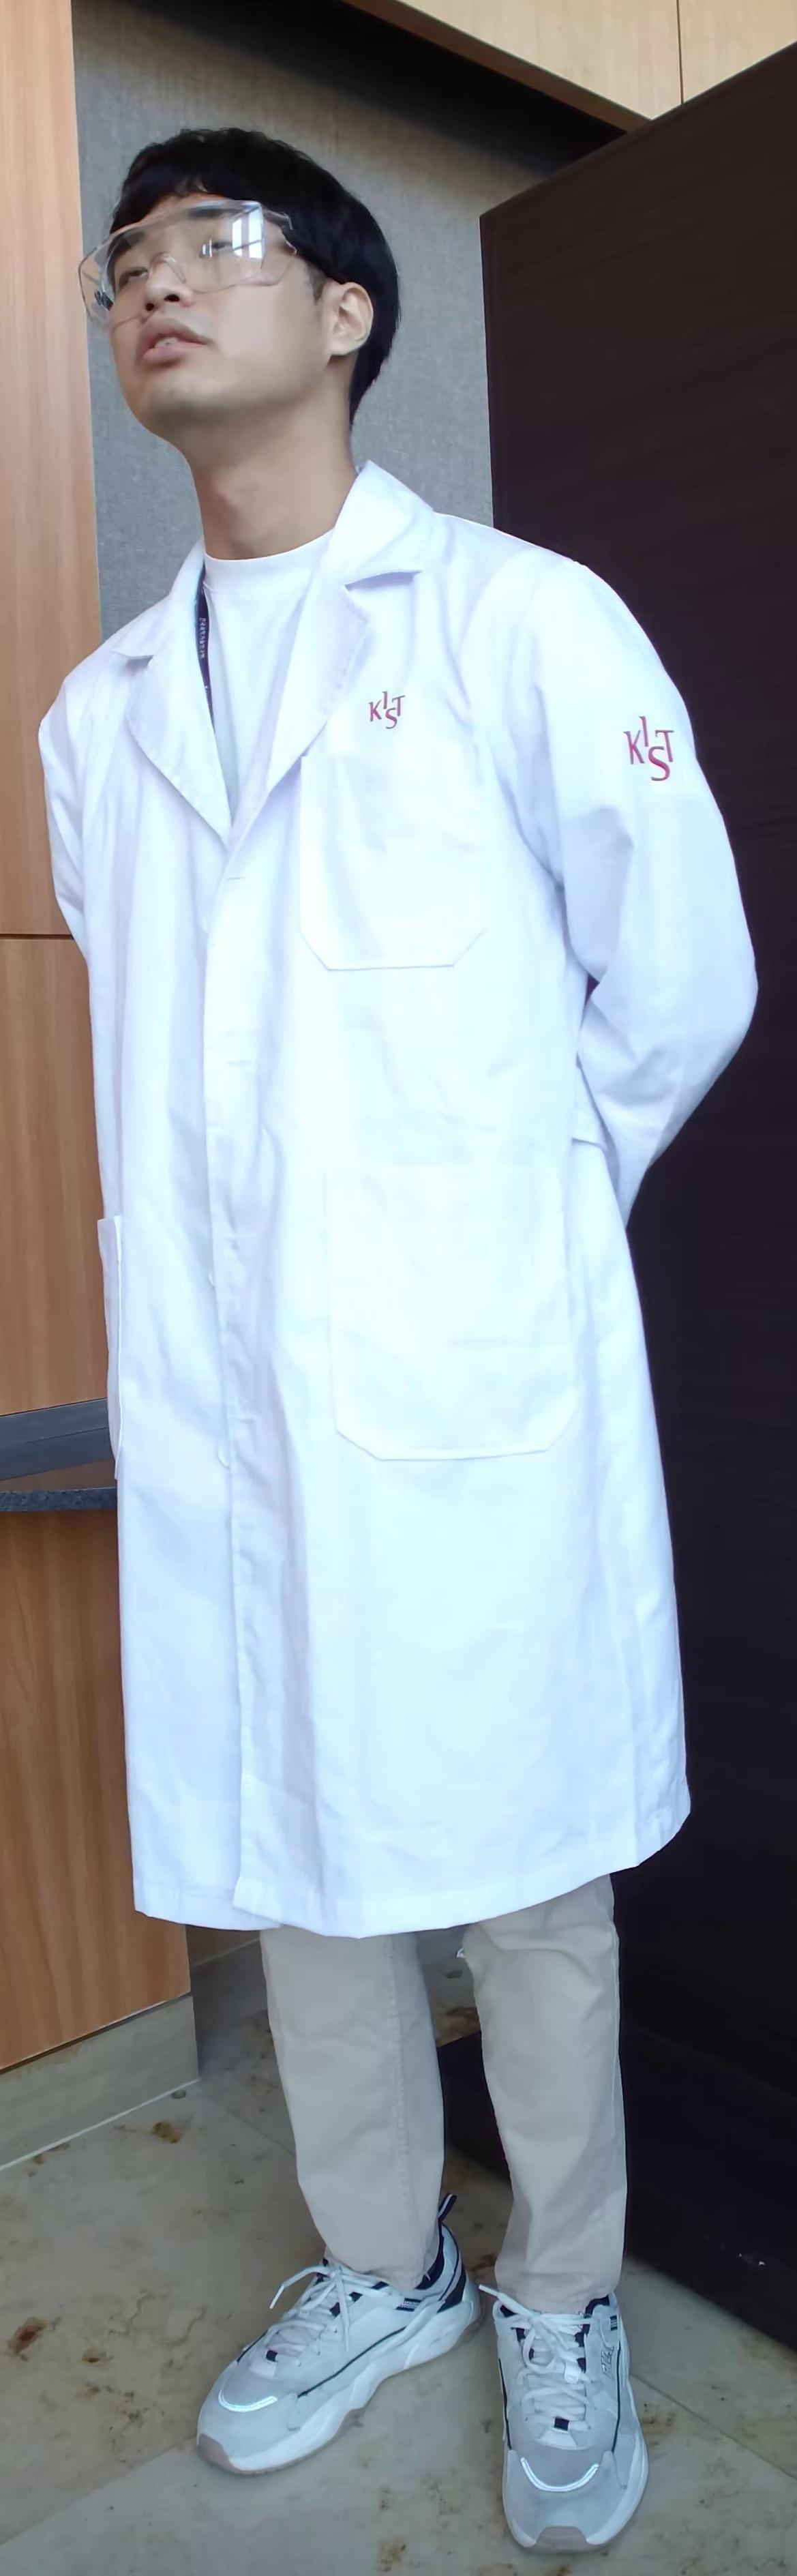lab_coat: (36, 588, 698, 1847)
